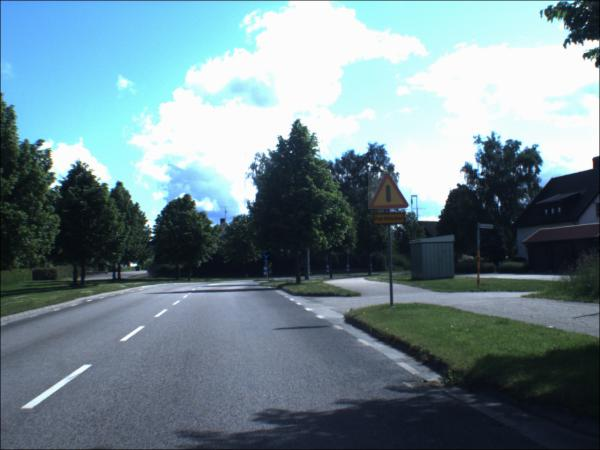PASS_RIGHT_SIDE: (263, 253, 272, 262)
WARNING: (369, 173, 411, 211)
